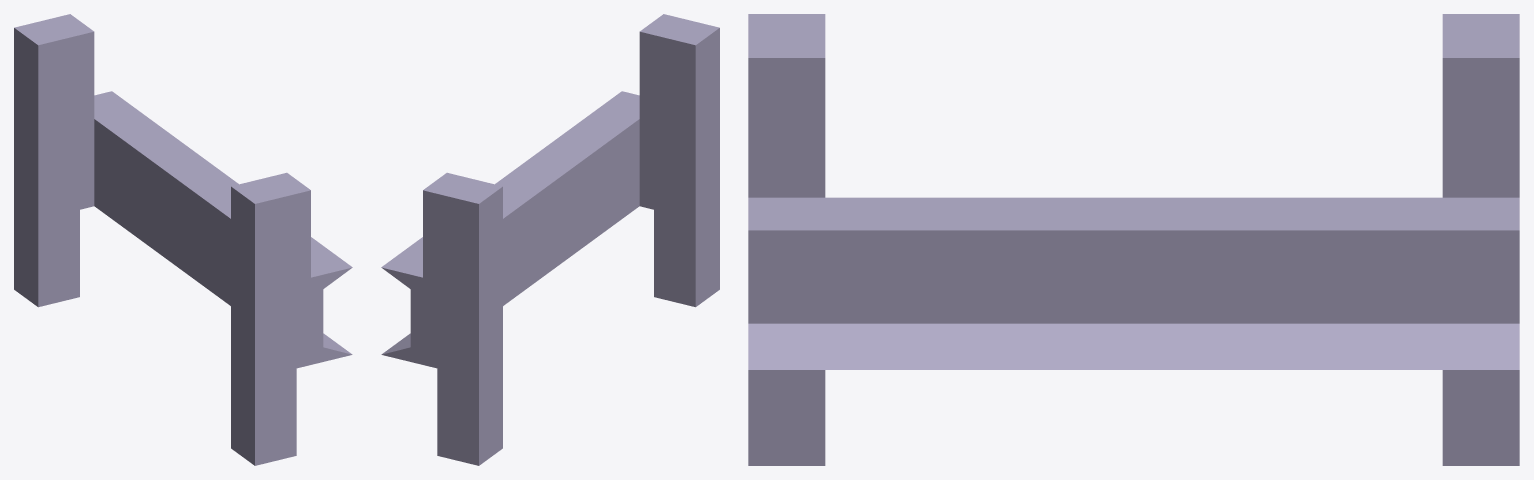
Rendered from guard_gray_no.fbx.
3 views of the same model, side by side, from view 1: azimuth 30°, elevation 25°; view 2: azimuth 150°, elevation 25°; view 3: azimuth 270°, elevation 25° (orthographic). The views are drawn at different scales.
Parts seen in each view (by area): view 1: Cube.063; view 2: Cube.063; view 3: Cube.063.
Boxes of the visible parts, bbox=[...] form: Cube.063: bbox=[14, 14, 352, 465]; Cube.063: bbox=[381, 14, 719, 465]; Cube.063: bbox=[748, 14, 1519, 465].
Size of the model in its own units: 117 by 300 by 500.
1 material, 1 textured.
